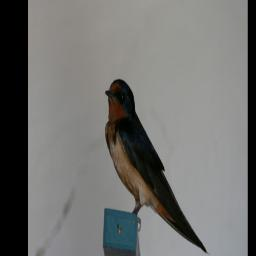Swallow: (102, 75, 209, 256)
